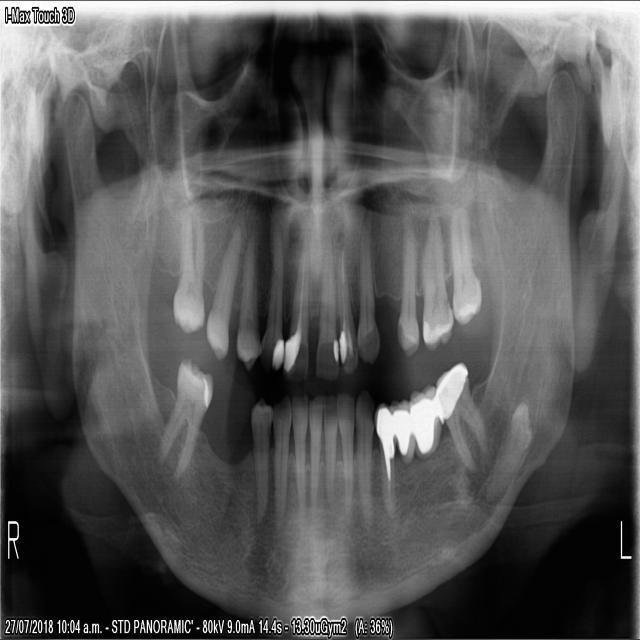LCD: (333, 387, 355, 506)
LCU: (355, 230, 381, 365)
LID: (322, 396, 337, 498), (308, 393, 321, 510)
LIU: (312, 241, 337, 382), (333, 248, 359, 372)
LMD: (430, 355, 490, 480), (407, 378, 444, 460), (393, 382, 415, 464)
LMU: (445, 208, 485, 329)
LPMD: (371, 396, 396, 523), (353, 387, 373, 505)
LPMU: (419, 215, 455, 352), (396, 212, 419, 361)
RCD: (247, 397, 272, 525)
RCU: (231, 227, 261, 383)
RID: (268, 394, 290, 533), (289, 389, 307, 510)
RIU: (259, 211, 290, 383), (278, 227, 311, 388)
RMD: (160, 351, 214, 481)
RPMU: (201, 225, 246, 367), (167, 214, 206, 332)
